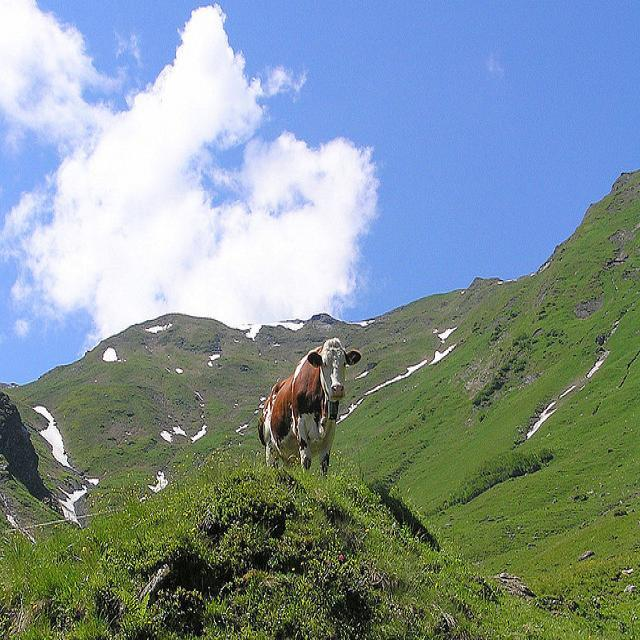cow: (255, 337, 360, 476)
